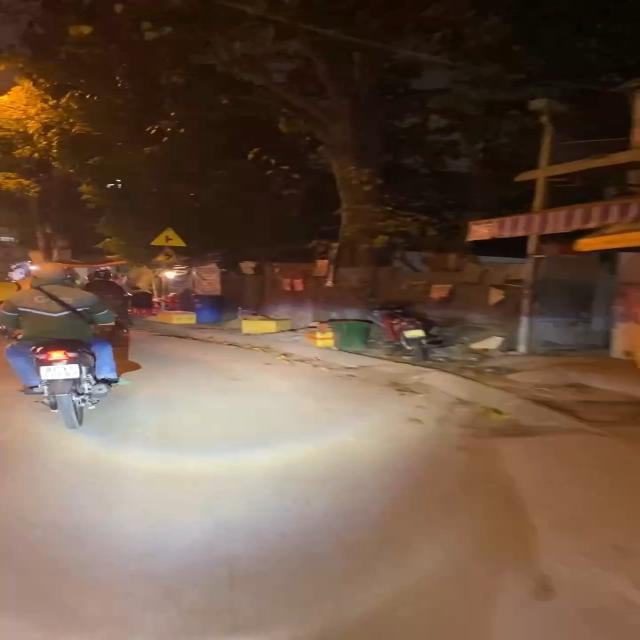201-cho-ngoat-nguy-hiem: (150, 248, 187, 266)
205-duong-giao-nhau: (148, 226, 188, 246)
